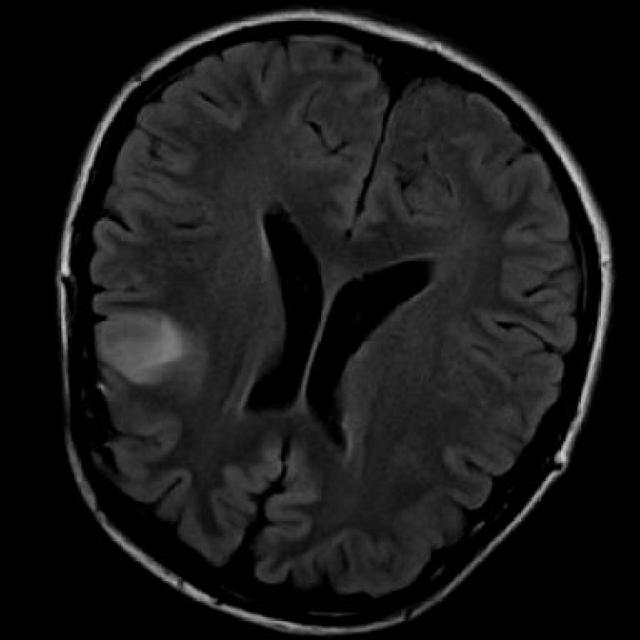Brain-Tumor: (85, 296, 226, 403)
